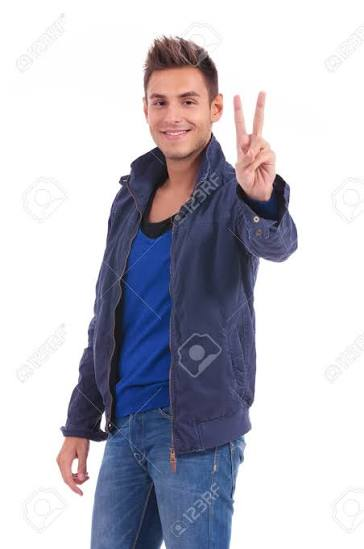peace_sign: (229, 89, 277, 205)
